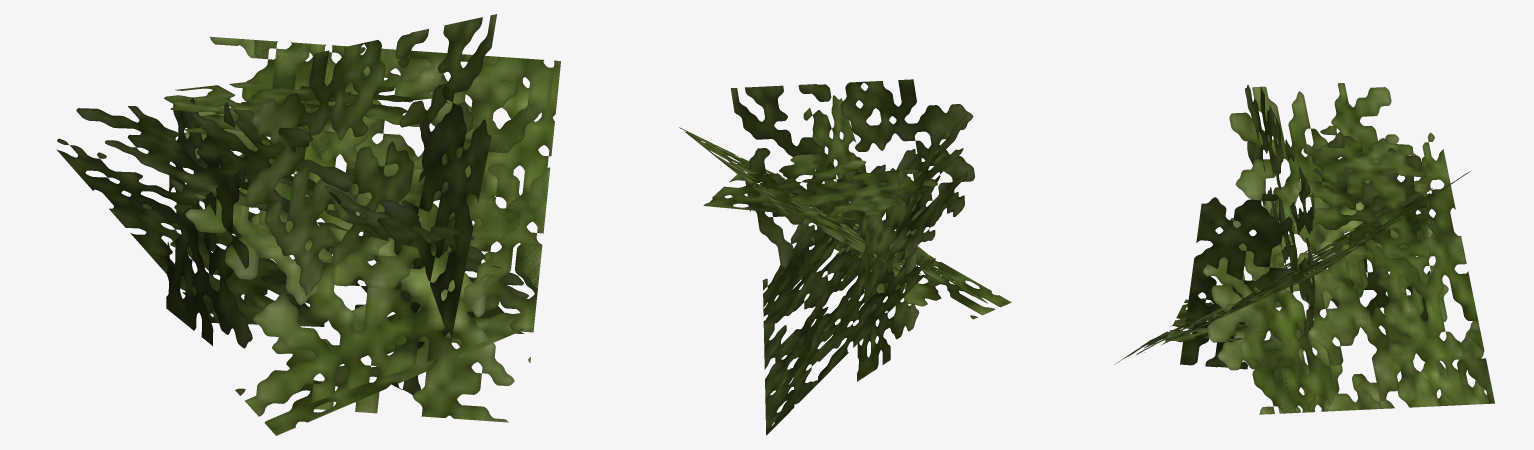
Rendered from chestnut_leaves_vertical_slab_4.obj.
3 renders of one model, left to right at view 1: azimuth 30°, elevation 25°; view 2: azimuth 150°, elevation 25°; view 3: azimuth 270°, elevation 25°, orthographic. The views are drawn at different scales.
Parts seen in each view (by area): view 1: cube; view 2: cube; view 3: cube.
Part boxes in pixels (x1,y1,x2,y2): cube: [56, 14, 560, 435]; cube: [679, 79, 1011, 435]; cube: [1114, 83, 1494, 414].
Bounding box in the file's own units: 2.85 × 2.25 × 2.69.
